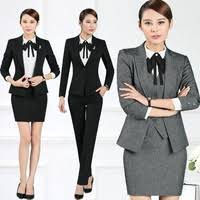F_dress pants: (63, 87, 106, 190)
F_tailored skirt: (121, 116, 193, 200), (4, 77, 54, 127)
S_business casual jacket: (116, 33, 200, 162), (58, 33, 119, 96), (1, 32, 60, 85)
